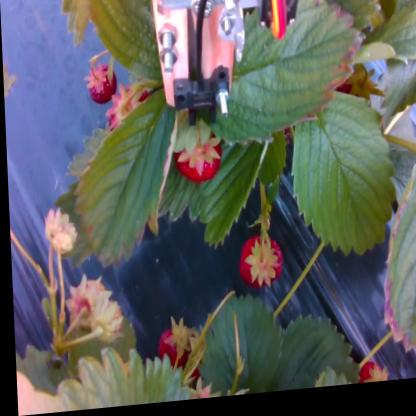ripe: (174, 138, 225, 186), (237, 241, 281, 291), (149, 326, 194, 369), (89, 68, 118, 102), (351, 366, 384, 390)
